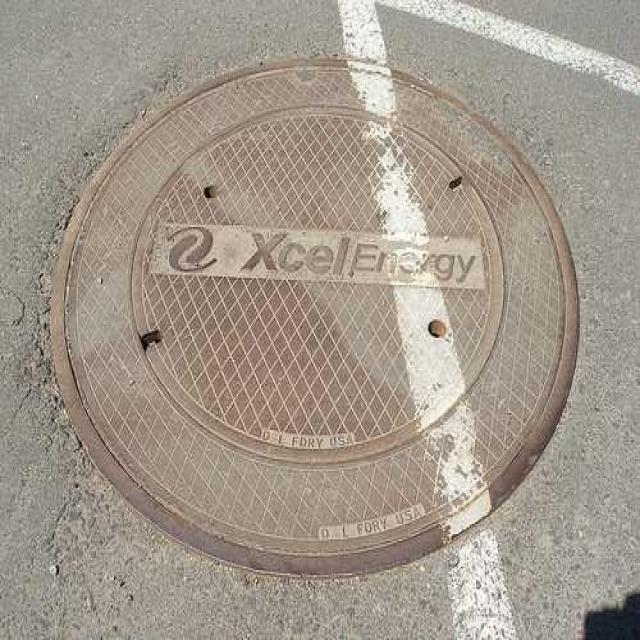manhole: (47, 58, 581, 580)
